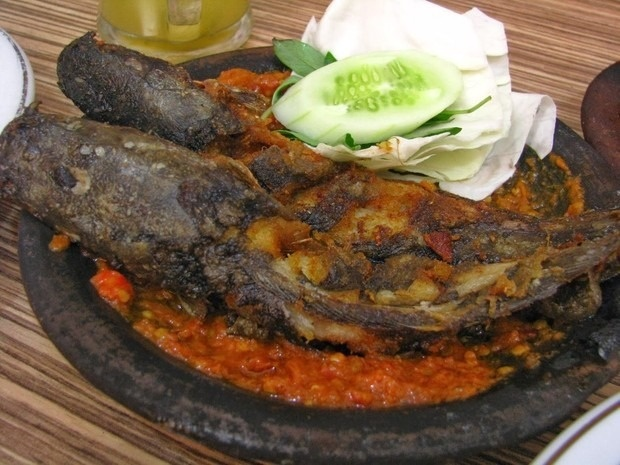pecel_lele: (2, 105, 615, 335)
